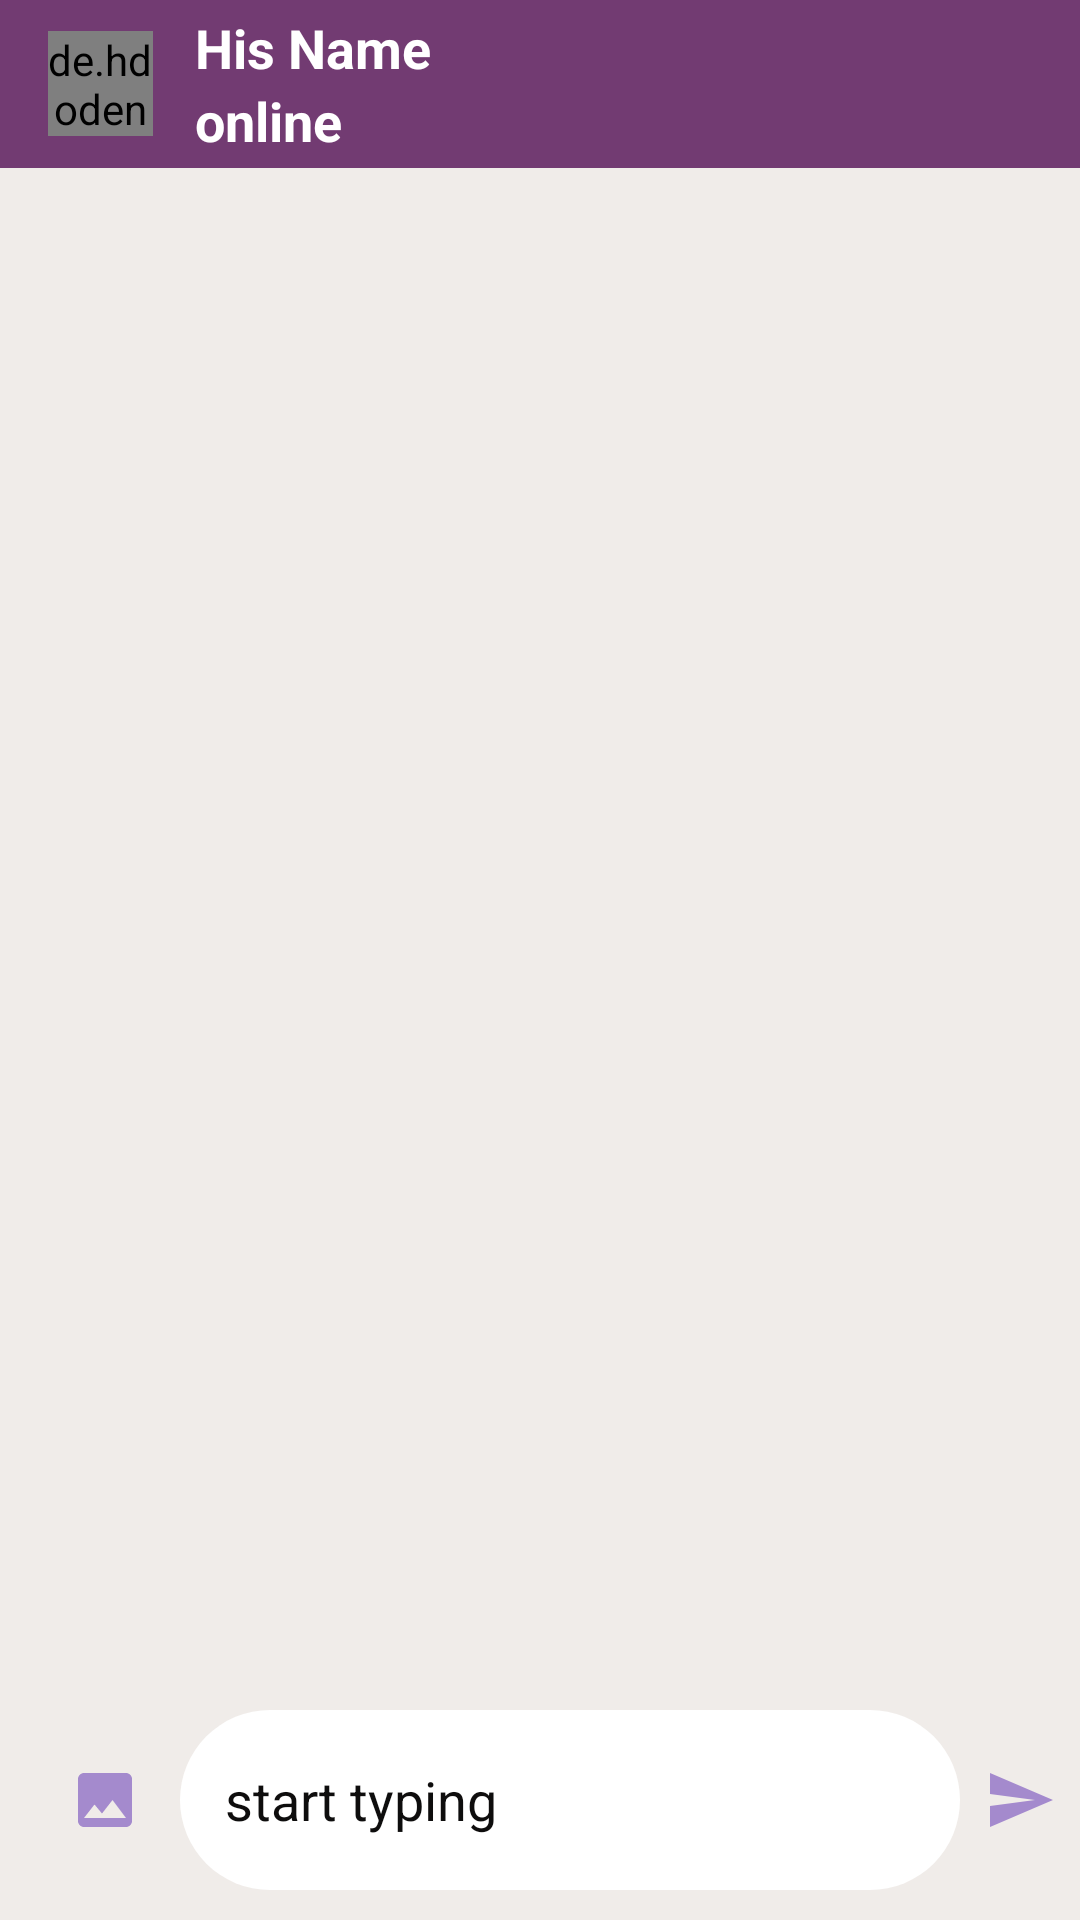

Where to tap for icons on this 1080px×1920px app screen, as [x,y]:
send: [1021,1800]
